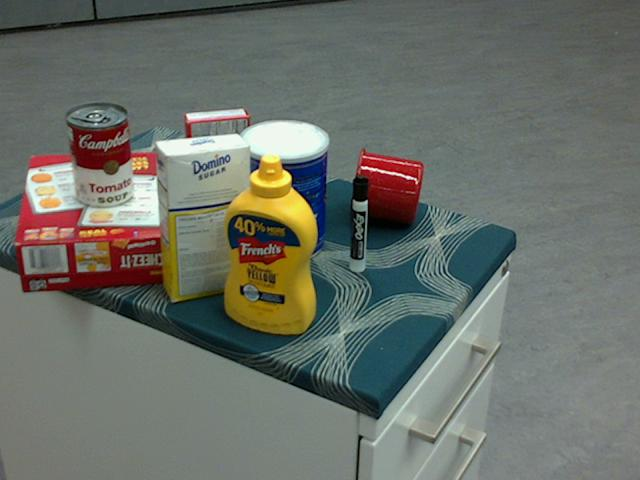cracker_box: (15, 149, 172, 292)
gelatin_box: (183, 108, 249, 168)
large_marker: (351, 174, 368, 272)
master_chef_can: (237, 119, 327, 264)
mug: (349, 146, 422, 223)
mustard_bottle: (224, 153, 318, 334)
potted_meat_can: (231, 129, 313, 213)
sugar_box: (154, 132, 250, 301)
tomato_soup_can: (65, 103, 133, 208)
tuna_fish_can: (166, 154, 199, 224)
